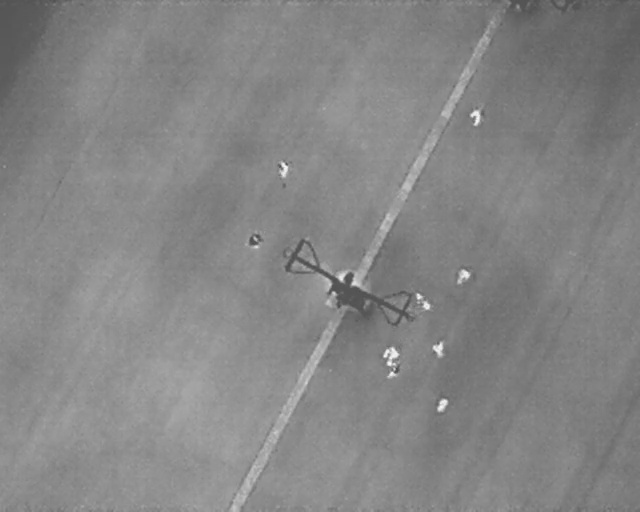Person: (408, 288, 435, 315), (452, 264, 473, 289), (382, 360, 403, 383), (381, 344, 400, 365), (433, 395, 451, 415), (247, 229, 263, 250), (468, 107, 482, 128), (430, 339, 444, 360), (276, 157, 289, 179)
